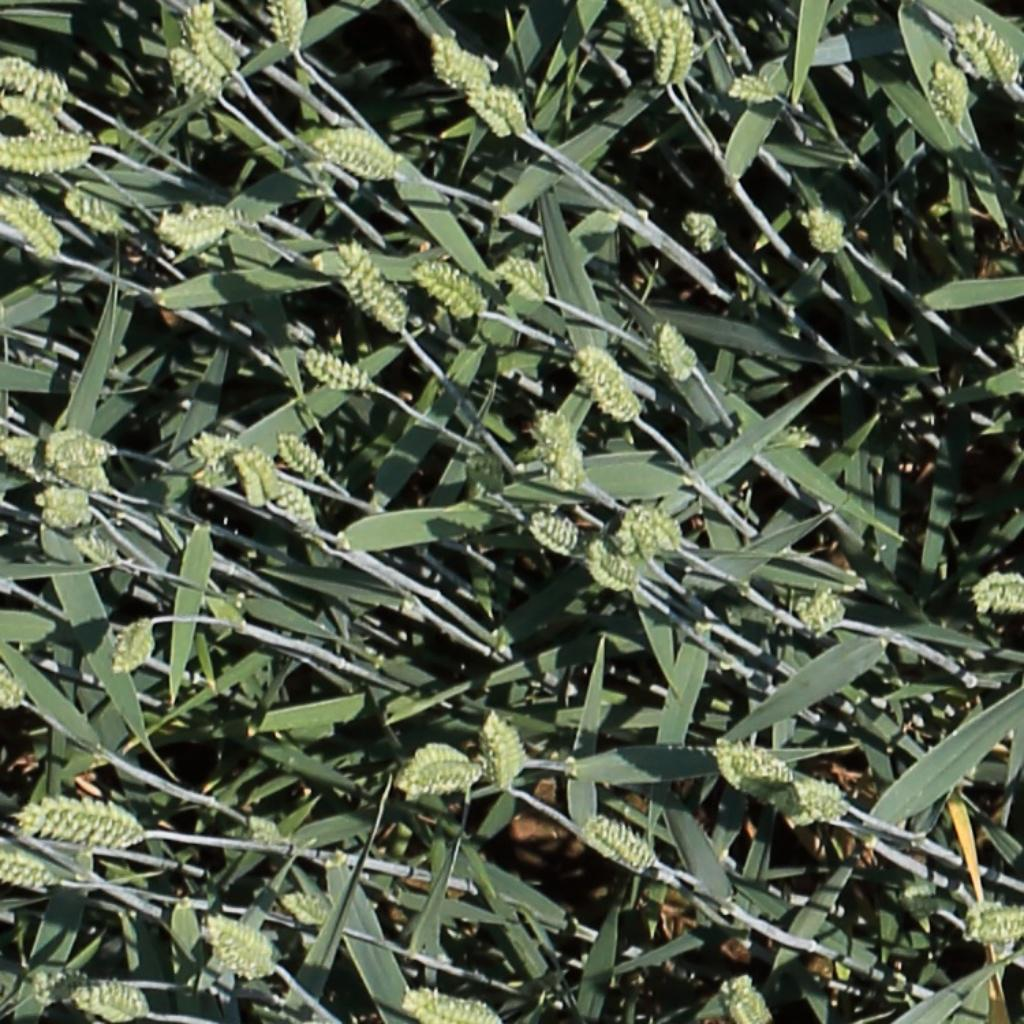0-0: (20, 788, 147, 858), (334, 245, 416, 341), (187, 911, 279, 988), (396, 733, 481, 811), (312, 122, 403, 189), (581, 803, 659, 877), (574, 342, 643, 424), (34, 415, 124, 477), (148, 200, 238, 257), (398, 976, 509, 1022), (483, 705, 533, 806), (781, 578, 852, 647), (182, 422, 247, 497), (0, 193, 63, 270), (954, 15, 1018, 90), (177, 1, 234, 82), (71, 969, 154, 1022), (432, 34, 502, 96), (653, 4, 704, 89), (0, 132, 97, 176), (415, 260, 487, 318), (944, 894, 1022, 947), (0, 44, 72, 101), (709, 740, 766, 812), (537, 405, 585, 490), (883, 870, 948, 932), (275, 885, 347, 940), (793, 768, 856, 830), (453, 444, 519, 503), (714, 966, 780, 1024), (579, 535, 642, 595), (962, 565, 1024, 623), (233, 801, 296, 857), (32, 484, 103, 533), (464, 80, 522, 139), (519, 501, 582, 555), (729, 745, 808, 787), (270, 476, 322, 539), (626, 503, 685, 558), (0, 90, 66, 137), (62, 185, 126, 233), (110, 613, 157, 678), (655, 314, 697, 385), (303, 348, 374, 390), (167, 43, 223, 96), (1, 839, 59, 890), (275, 428, 330, 481), (267, 0, 316, 58), (929, 57, 968, 129), (0, 435, 48, 492), (27, 960, 90, 1003), (234, 445, 274, 512), (66, 530, 131, 571), (721, 71, 784, 112), (804, 202, 849, 258), (622, 0, 667, 55), (498, 258, 552, 299), (401, 768, 481, 794), (682, 206, 723, 253), (0, 653, 25, 714)
